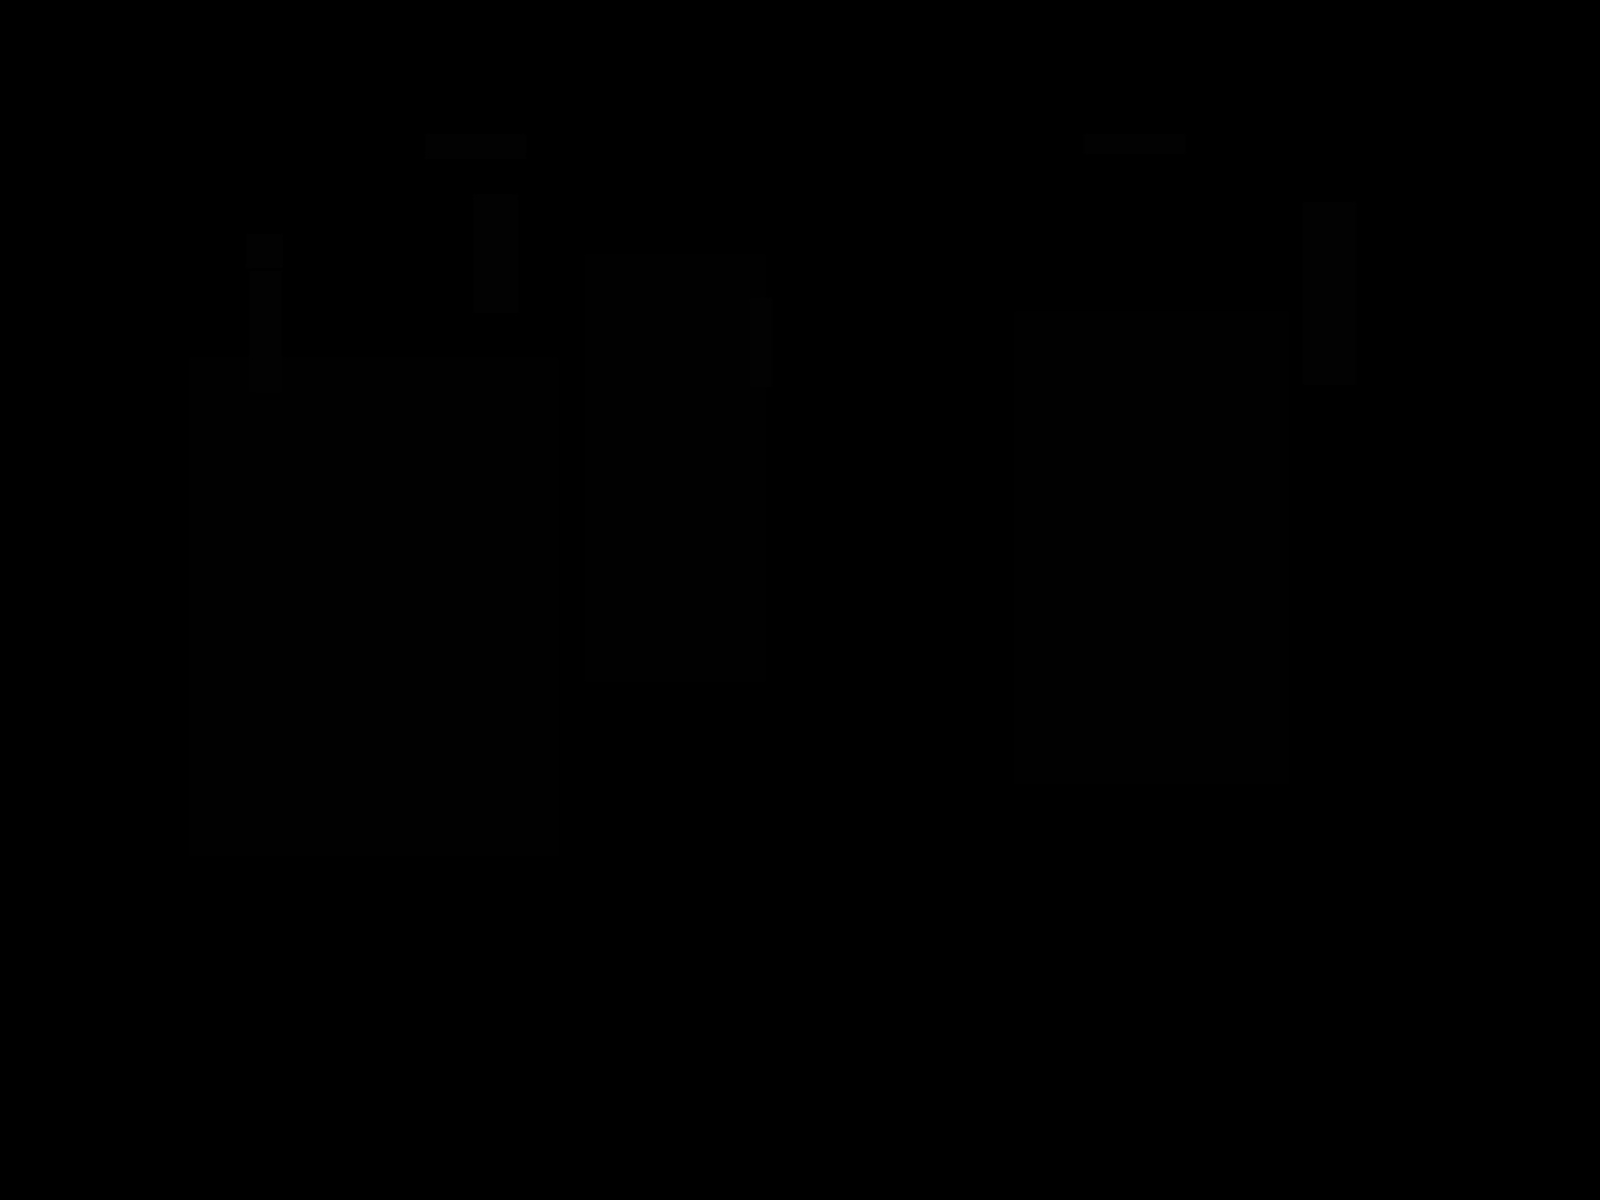1_overall: (87, 59, 1531, 1003)
3_typography: (1303, 202, 1356, 384), (472, 194, 518, 313), (249, 271, 282, 393), (425, 134, 527, 159), (1083, 134, 1186, 154), (750, 297, 772, 387)
4_illustration: (189, 357, 559, 856), (1014, 311, 1289, 784), (585, 255, 766, 682)
5_stamp: (246, 234, 283, 268)
